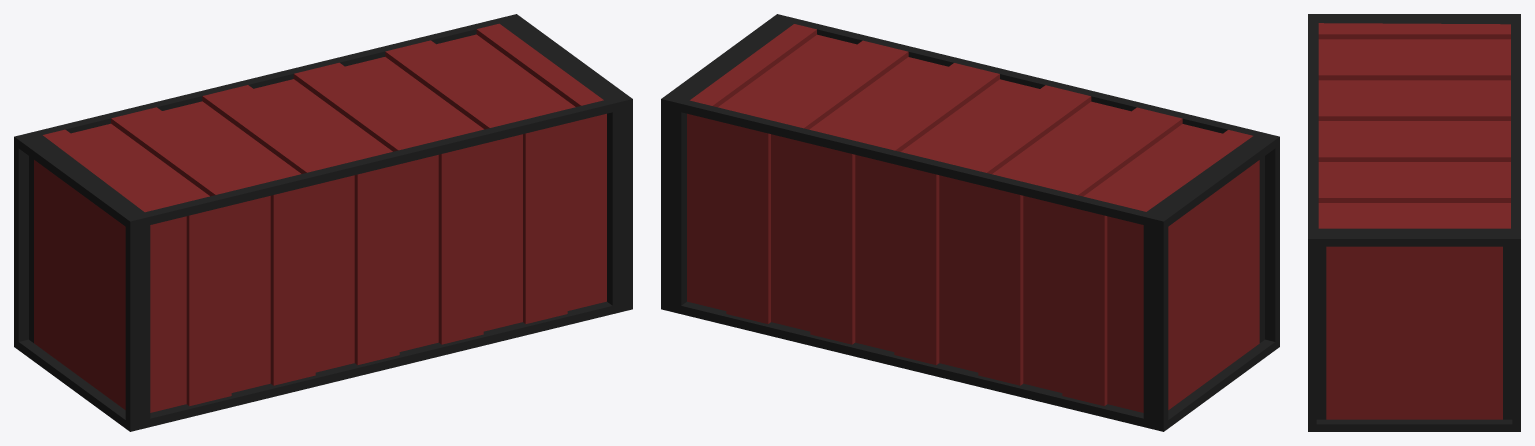
File: Container_1.fbx
3 views of the same model, side by side, from view 1: azimuth 30°, elevation 25°; view 2: azimuth 150°, elevation 25°; view 3: azimuth 270°, elevation 25° (orthographic). The views are drawn at different scales.
Parts seen in each view (by area): view 1: Cube; view 2: Cube; view 3: Cube.
Part boxes in pixels (<box>): Cube: <box>14,14,632,431</box>; Cube: <box>661,14,1279,431</box>; Cube: <box>1308,14,1520,431</box>.
Size of the model in its own units: 10 by 4 by 4.
